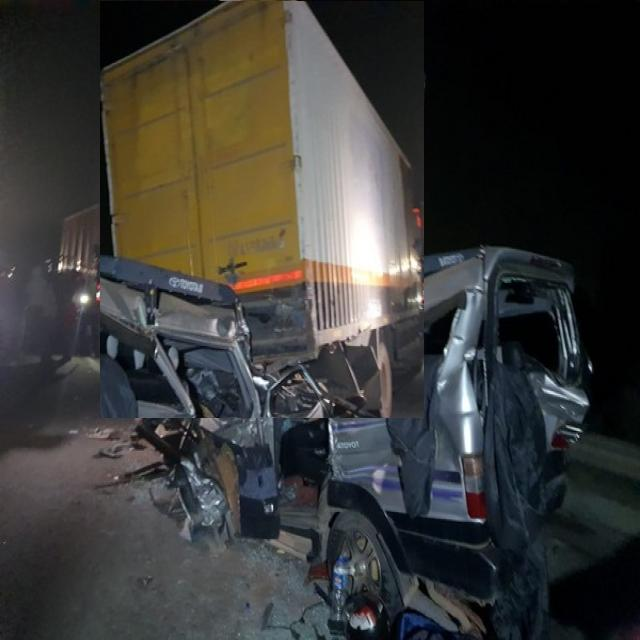accident: (136, 248, 589, 638)
truck: (100, 2, 424, 418)
